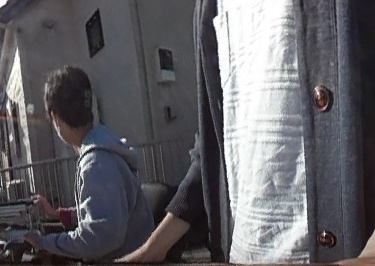person: (39, 63, 148, 266)
